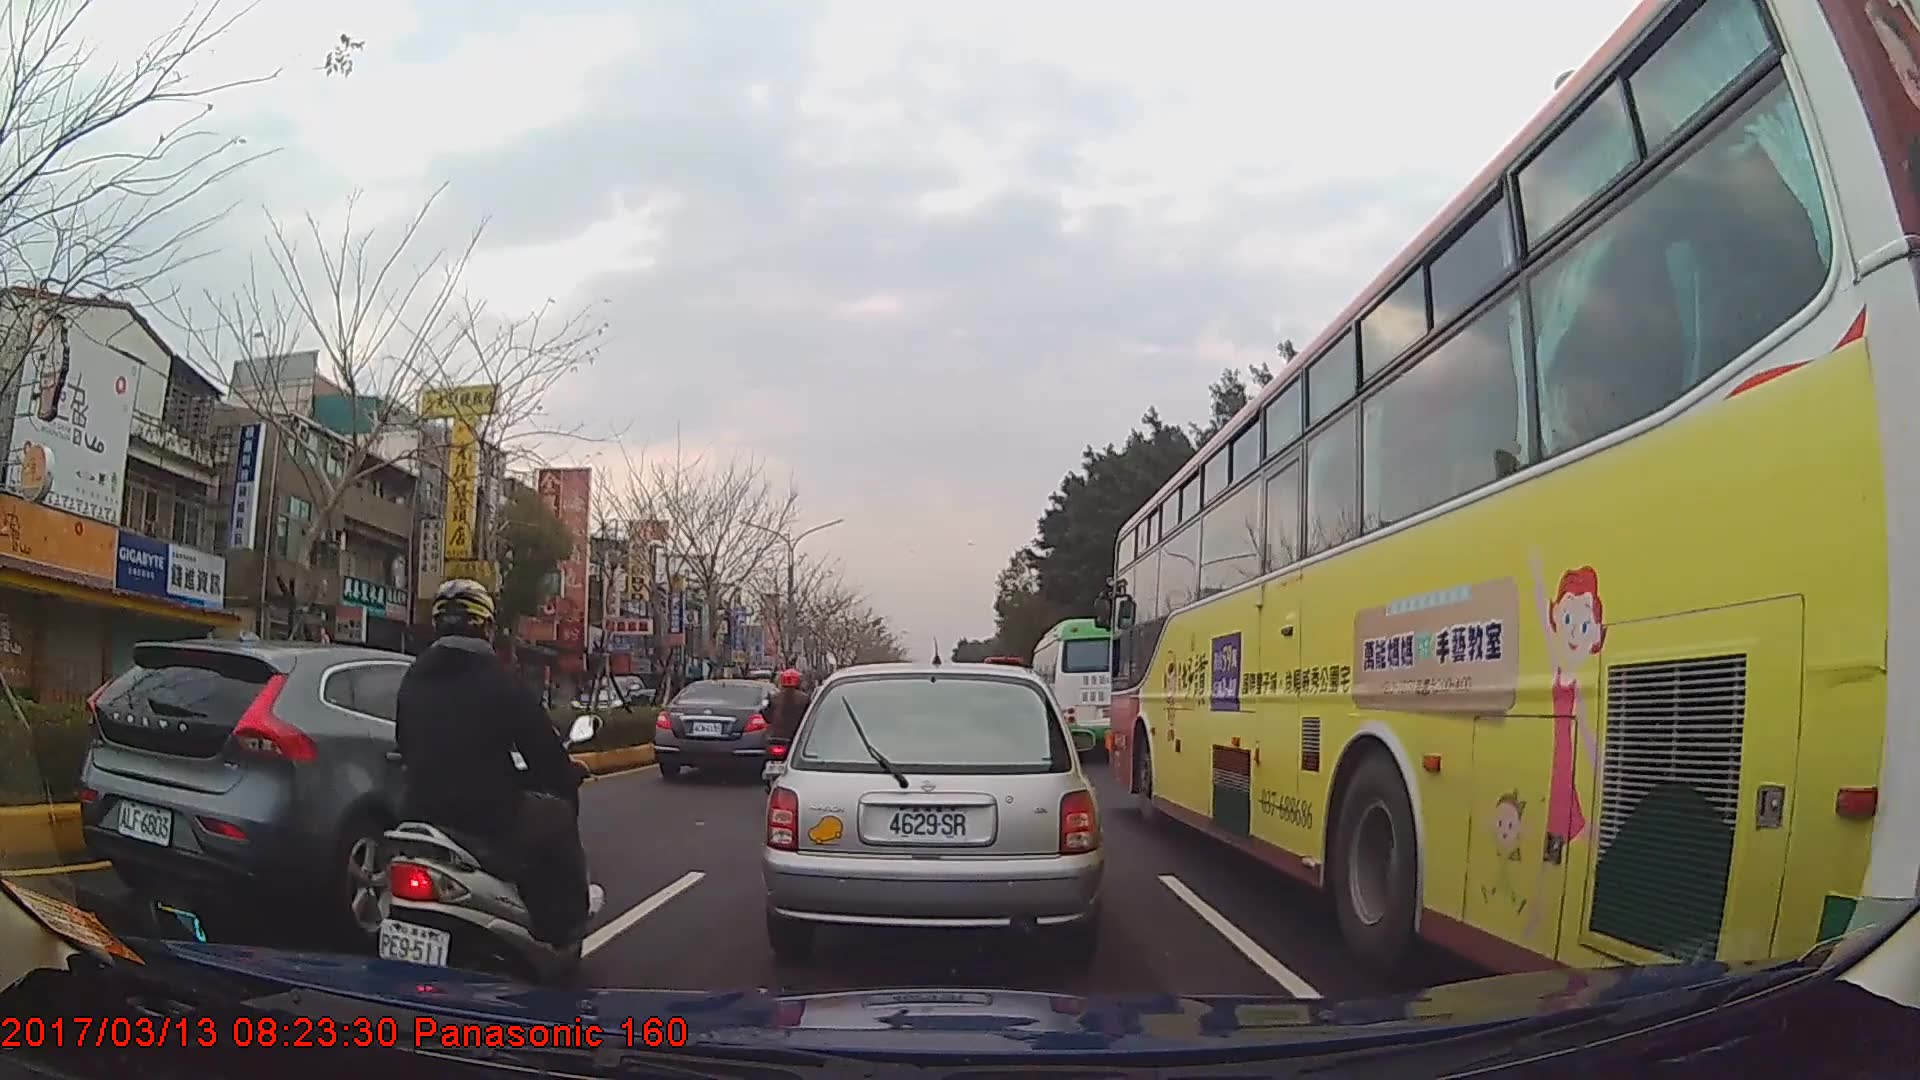rider: (382, 577, 599, 978), (762, 668, 820, 792)
vehicle: (1107, 0, 1920, 1008), (76, 635, 578, 927), (762, 660, 1103, 960), (654, 674, 801, 783), (1028, 616, 1140, 756), (571, 673, 658, 731)
